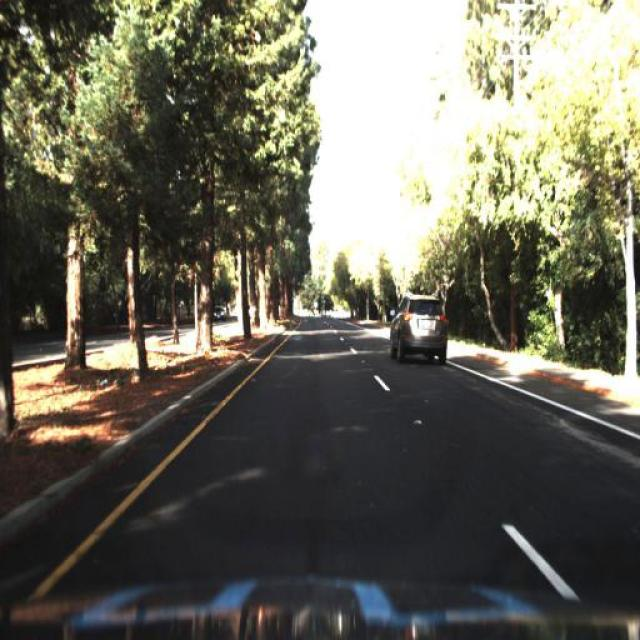car: (387, 292, 451, 369), (210, 302, 230, 326)
